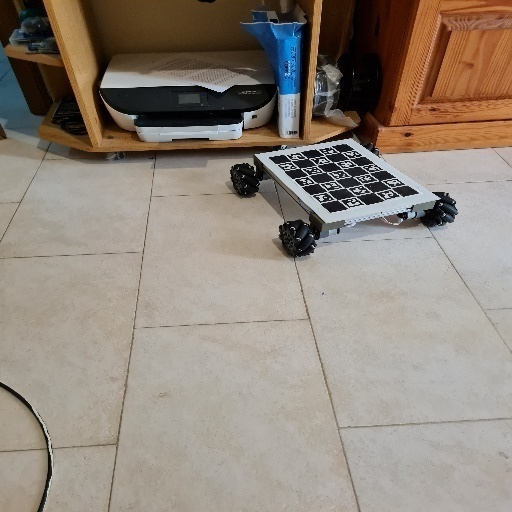Omniwheel: (227, 135, 460, 261)
